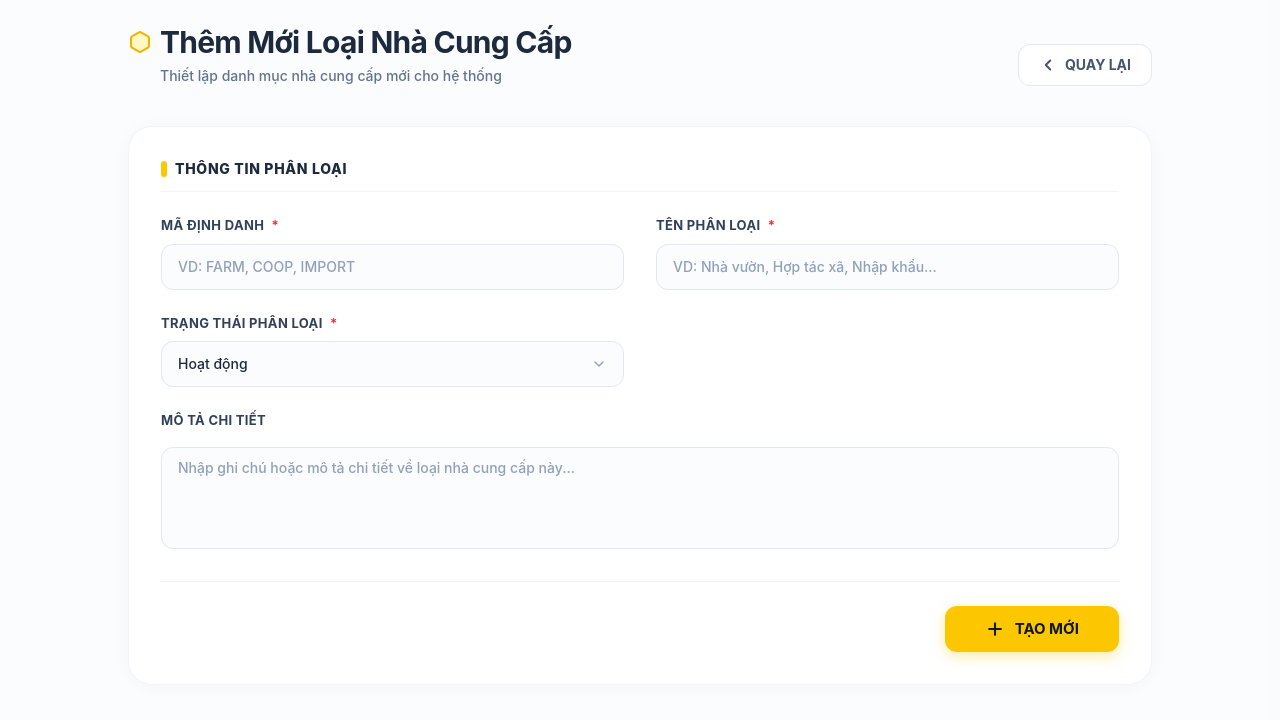
Module 03 - SupplierTypeForm Component › TC02 - Hiển thị lỗi validation khi submit dữ liệu trống
Check: the heading "Thêm Mới Loại Nhà Cung Cấp" is shown, box [160,24,572,60]
Click the button "TẠO MỚI" at [1032, 629], box [945,606,1119,652]
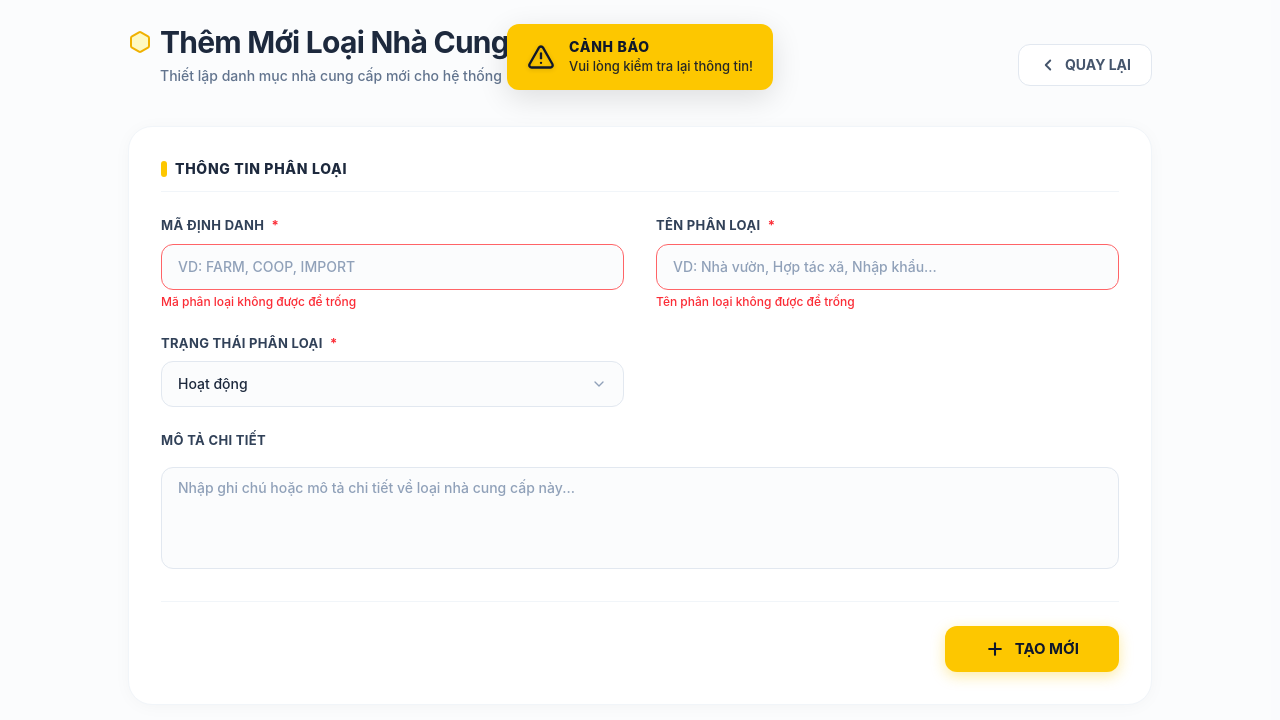
Check: the text "Mã phân loại không được để trống" is shown, box [161,294,356,308]
Check: the text "Tên phân loại không được để trống" is shown, box [656,294,855,308]
